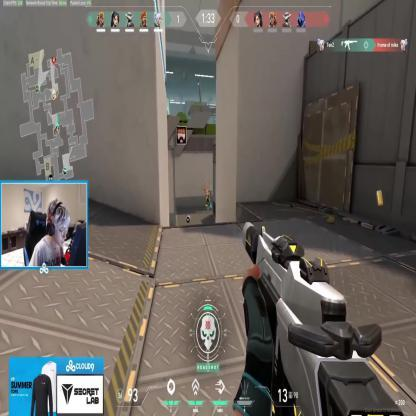enemy: (206, 190, 210, 207)
enemy_head: (206, 190, 210, 193)
